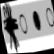correct: (30, 7, 43, 34)
not correct: (0, 0, 24, 54)
